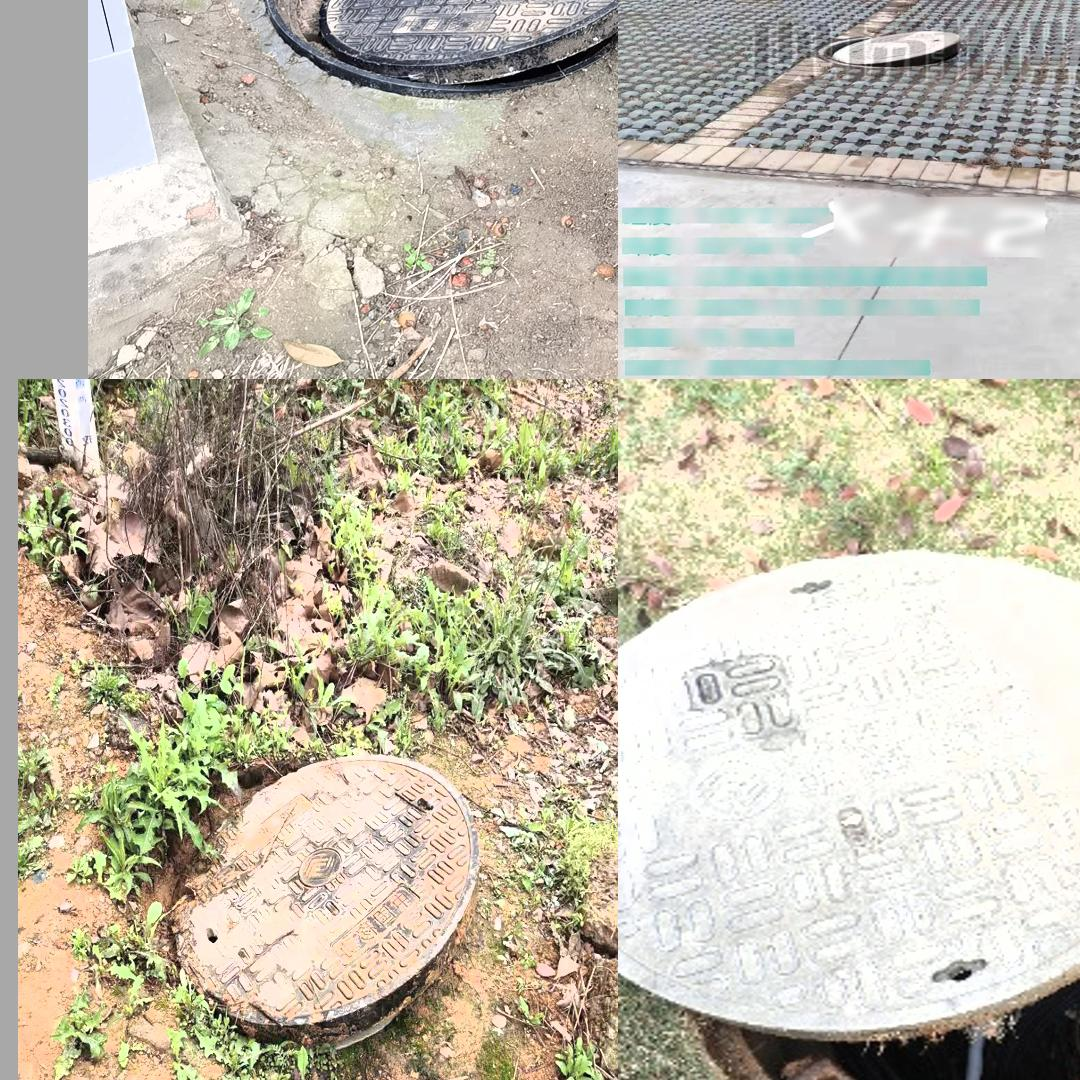uncovered: (618, 545, 1080, 1080), (113, 729, 491, 1053), (262, 0, 617, 99), (816, 30, 970, 71)
